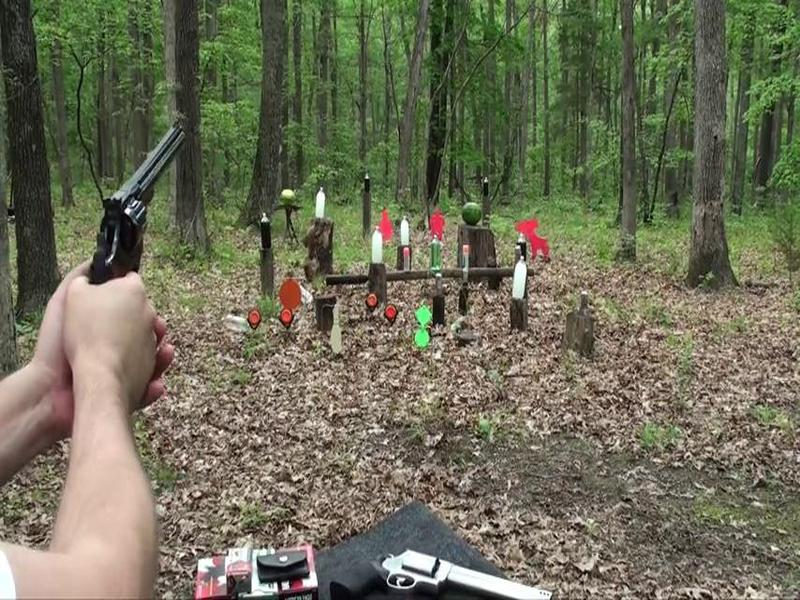Revolver: (80, 113, 197, 294)
